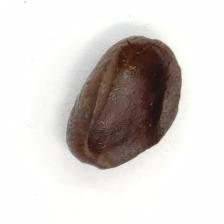NG: (87, 35, 175, 169)
